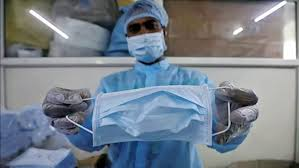mask: (126, 37, 164, 59)
